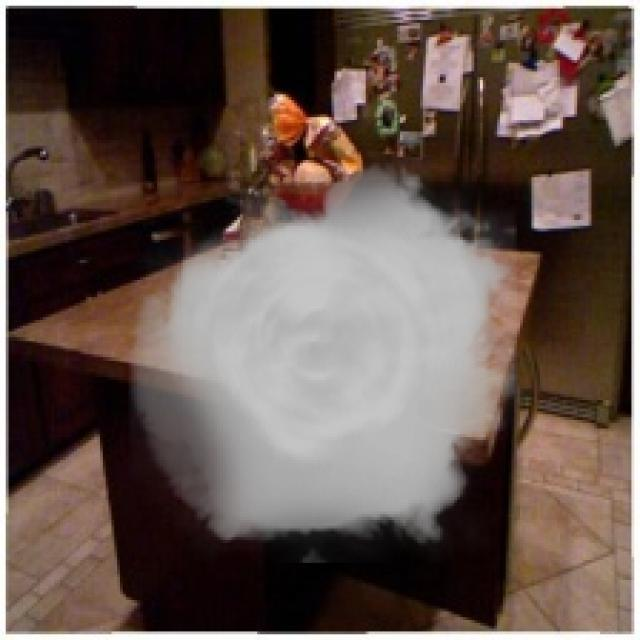Smoke: (128, 151, 518, 563)
